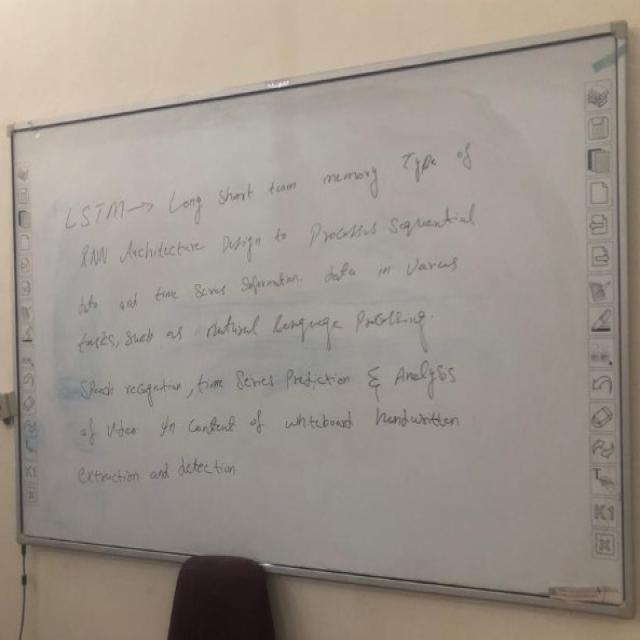White-board: (7, 28, 626, 613)
